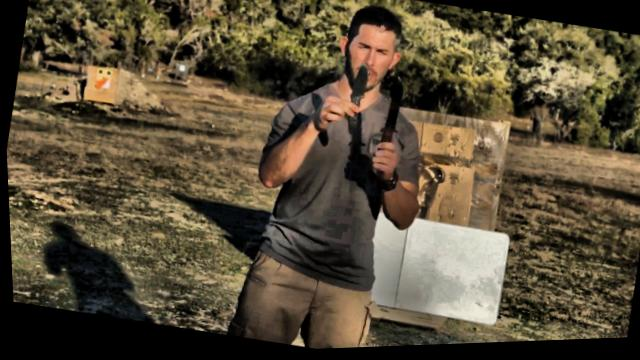knife: (357, 69, 415, 183), (327, 54, 374, 134)
